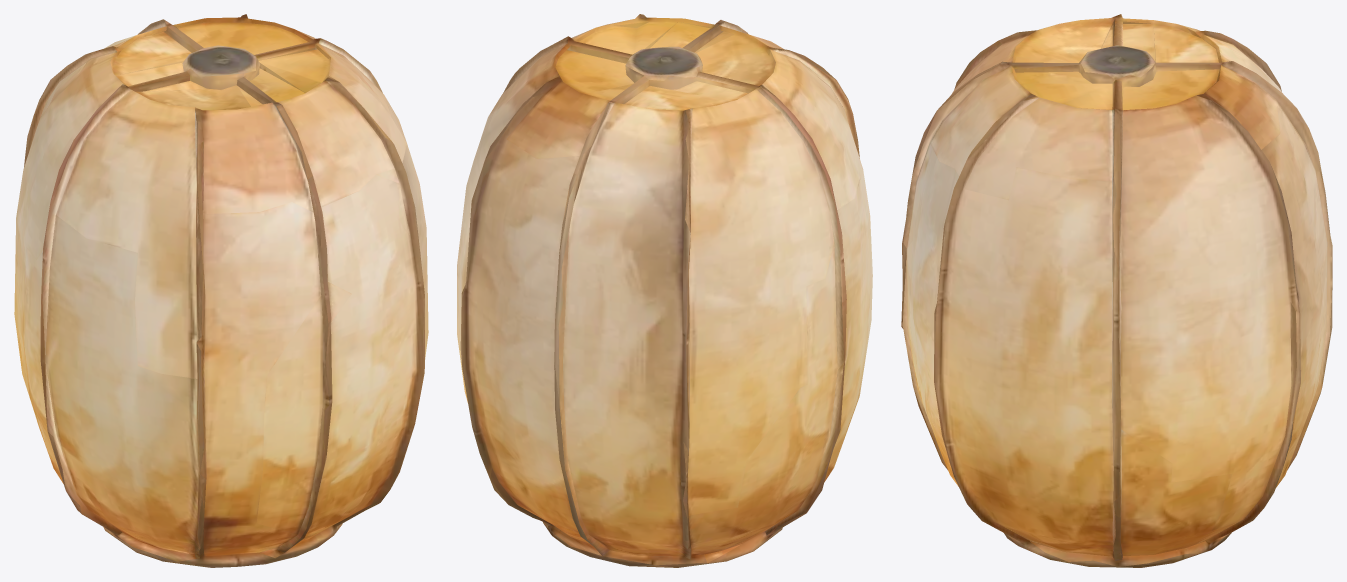
File: aholo-kongming.glb
The picture shows the model from 3 angles, left to right: view 1: azimuth 30°, elevation 25°; view 2: azimuth 150°, elevation 25°; view 3: azimuth 270°, elevation 25°; orthographic projection.
Parts seen in each view (by area): view 1: geometry_0; view 2: geometry_0; view 3: geometry_0.
Boxes of the visible parts, x1,y1,x2,y2 form: geometry_0: (14, 14, 428, 567); geometry_0: (457, 14, 872, 567); geometry_0: (901, 14, 1332, 567).
Bounding box in the file's own units: 0.8185 × 1.01 × 0.8464.
Materials: 1 (1 with a texture image).
